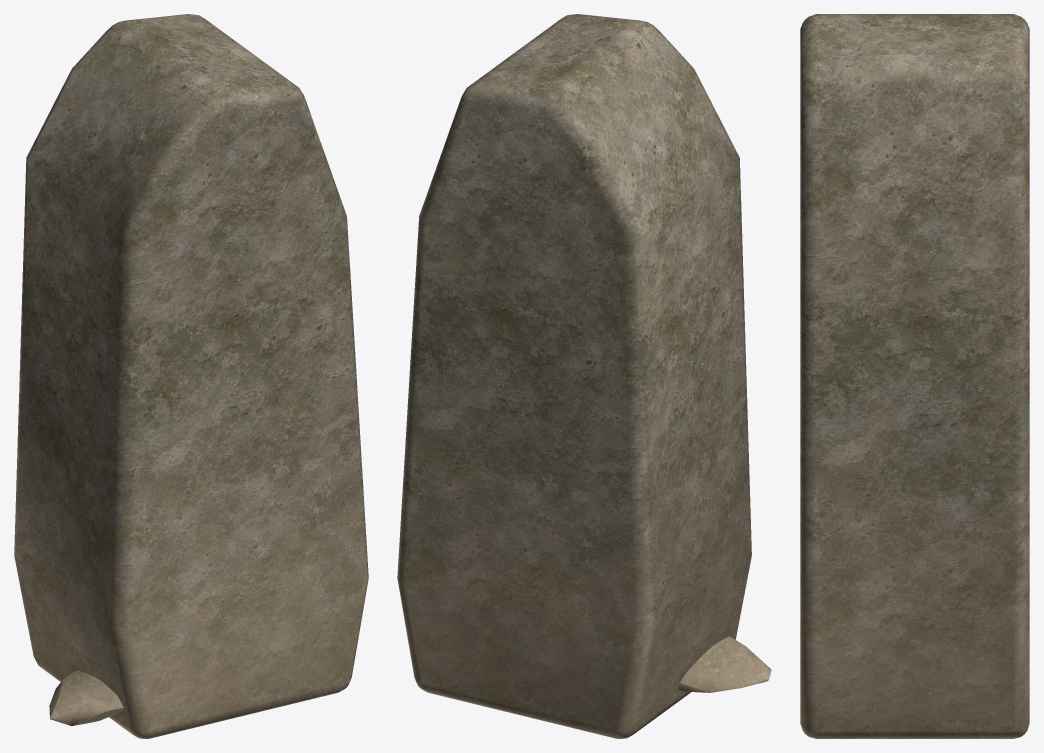
The model's file is marker_left.glb.
3 renders of one model, left to right at view 1: azimuth 30°, elevation 25°; view 2: azimuth 150°, elevation 25°; view 3: azimuth 270°, elevation 25°, orthographic. The views are drawn at different scales.
Visible parts, largest first — view 1: Worn sigil marker; view 2: Worn sigil marker; view 3: Worn sigil marker.
Part boxes in pixels (<box>): Worn sigil marker: <box>14,14,368,738</box>; Worn sigil marker: <box>397,14,771,738</box>; Worn sigil marker: <box>800,14,1029,738</box>.
Bounding box in the file's own units: 1.22 × 2.48 × 0.78.
Materials: 1 (1 with a texture image).
